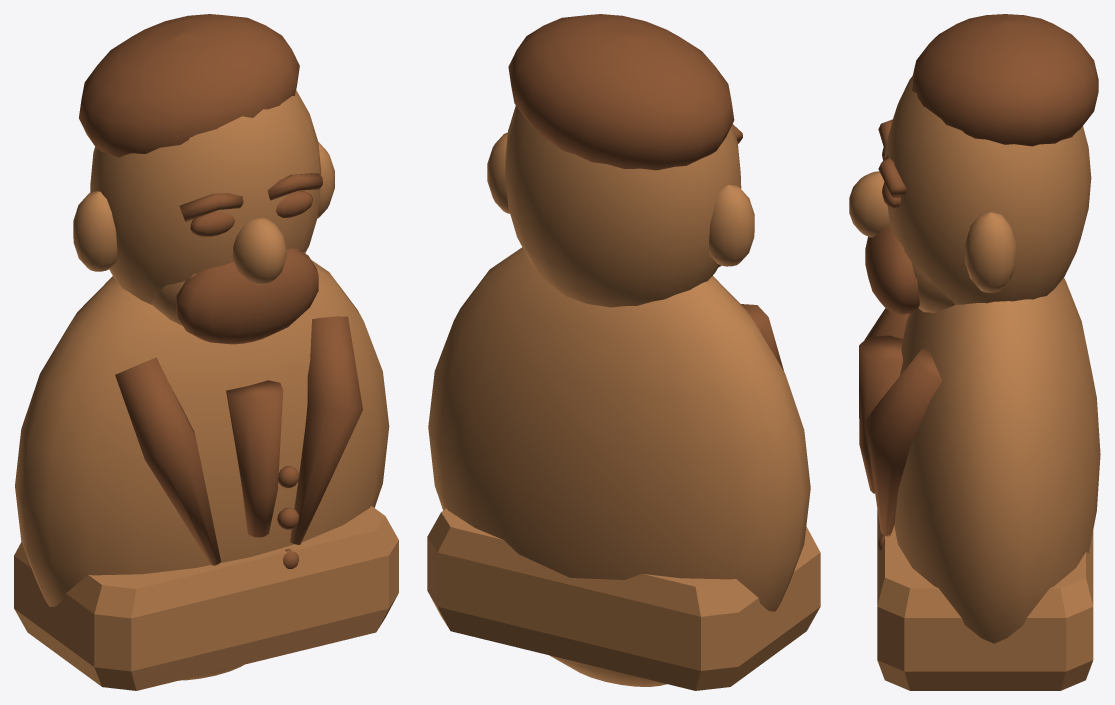
Rendered from coach-5.glb.
The picture shows the model from 3 angles, left to right: view 1: azimuth 30°, elevation 25°; view 2: azimuth 150°, elevation 25°; view 3: azimuth 270°, elevation 25°; orthographic projection. The views are drawn at different scales.
Visible parts, largest first — view 1: coach-5 · Cast bronze, coach-5 · Bronze patina, coach-5 · Cast bronze.001; view 2: coach-5 · Cast bronze, coach-5 · Cast bronze.001, coach-5 · Bronze patina; view 3: coach-5 · Cast bronze, coach-5 · Bronze patina, coach-5 · Cast bronze.001.
Boxes of the visible parts, x1,y1,x2,y2 form: coach-5 · Cast bronze: (15,90,389,680); coach-5 · Bronze patina: (79,14,362,568); coach-5 · Cast bronze.001: (14,506,398,690); coach-5 · Cast bronze: (428,105,810,686); coach-5 · Cast bronze.001: (427,508,820,690); coach-5 · Bronze patina: (508,14,783,370); coach-5 · Cast bronze: (849,76,1100,643); coach-5 · Bronze patina: (859,14,1098,551); coach-5 · Cast bronze.001: (877,509,1093,690).
Bounding box in the file's own units: 1.18 × 2.01 × 0.7085.
